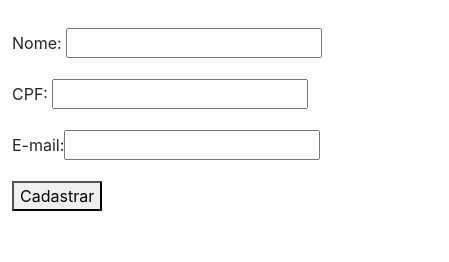
Aplicação contador › deve limpar o formulário e exibir mensagem de sucesso quando cadastra
Type "Fulano de Tal" into the field with id "campo-nome" at point(194, 43), box 66,28 -> 322,58
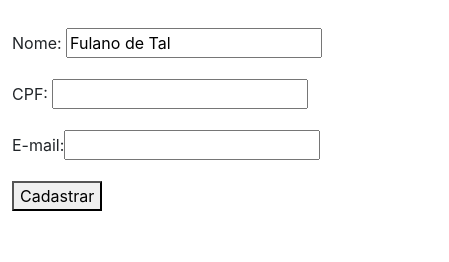
Type "138.921.370-64" into the field with id "campo-cpf" at point(180, 94), box 52,79 -> 308,109
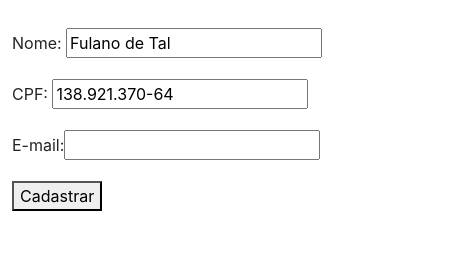
Type "email@exemplo.com" into the field with id "campo-email" at point(192, 145), box 64,130 -> 320,160
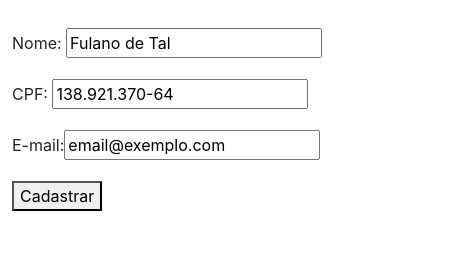
Click the button with id "btn-cadastrar" at point(57, 196), box 12,181 -> 102,211
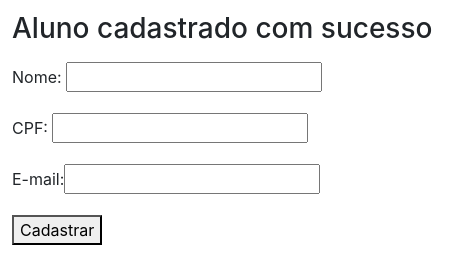
Result: the heading with id "mensagem-sucesso" reads "Aluno cadastrado com sucesso" at 12,11 -> 432,45
